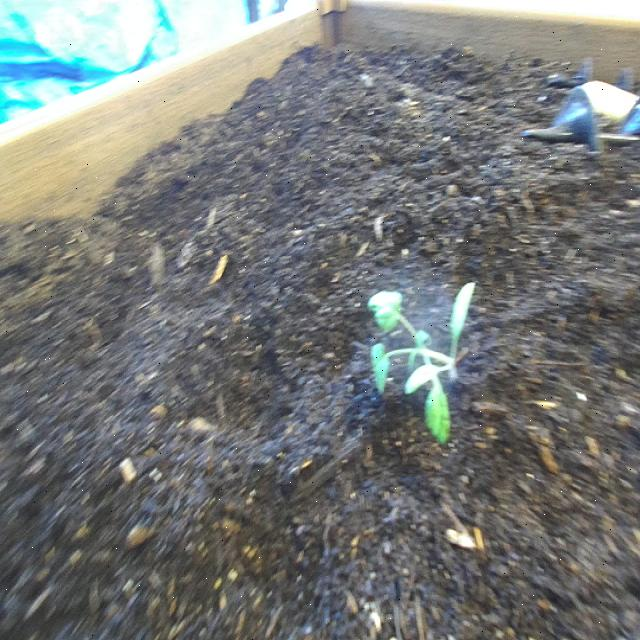Healthy: (363, 271, 484, 454)
